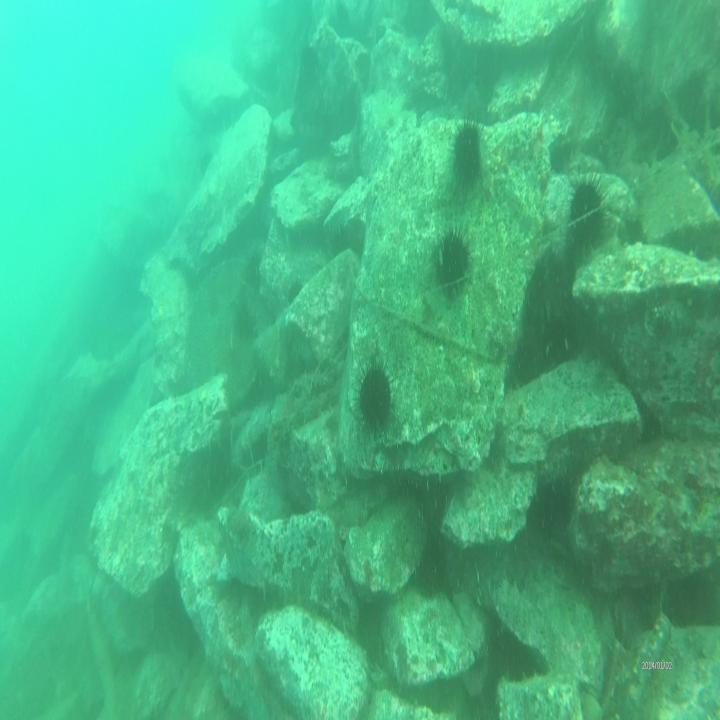echinus: (562, 171, 608, 256), (448, 107, 489, 192), (352, 357, 395, 437), (429, 226, 472, 296)
